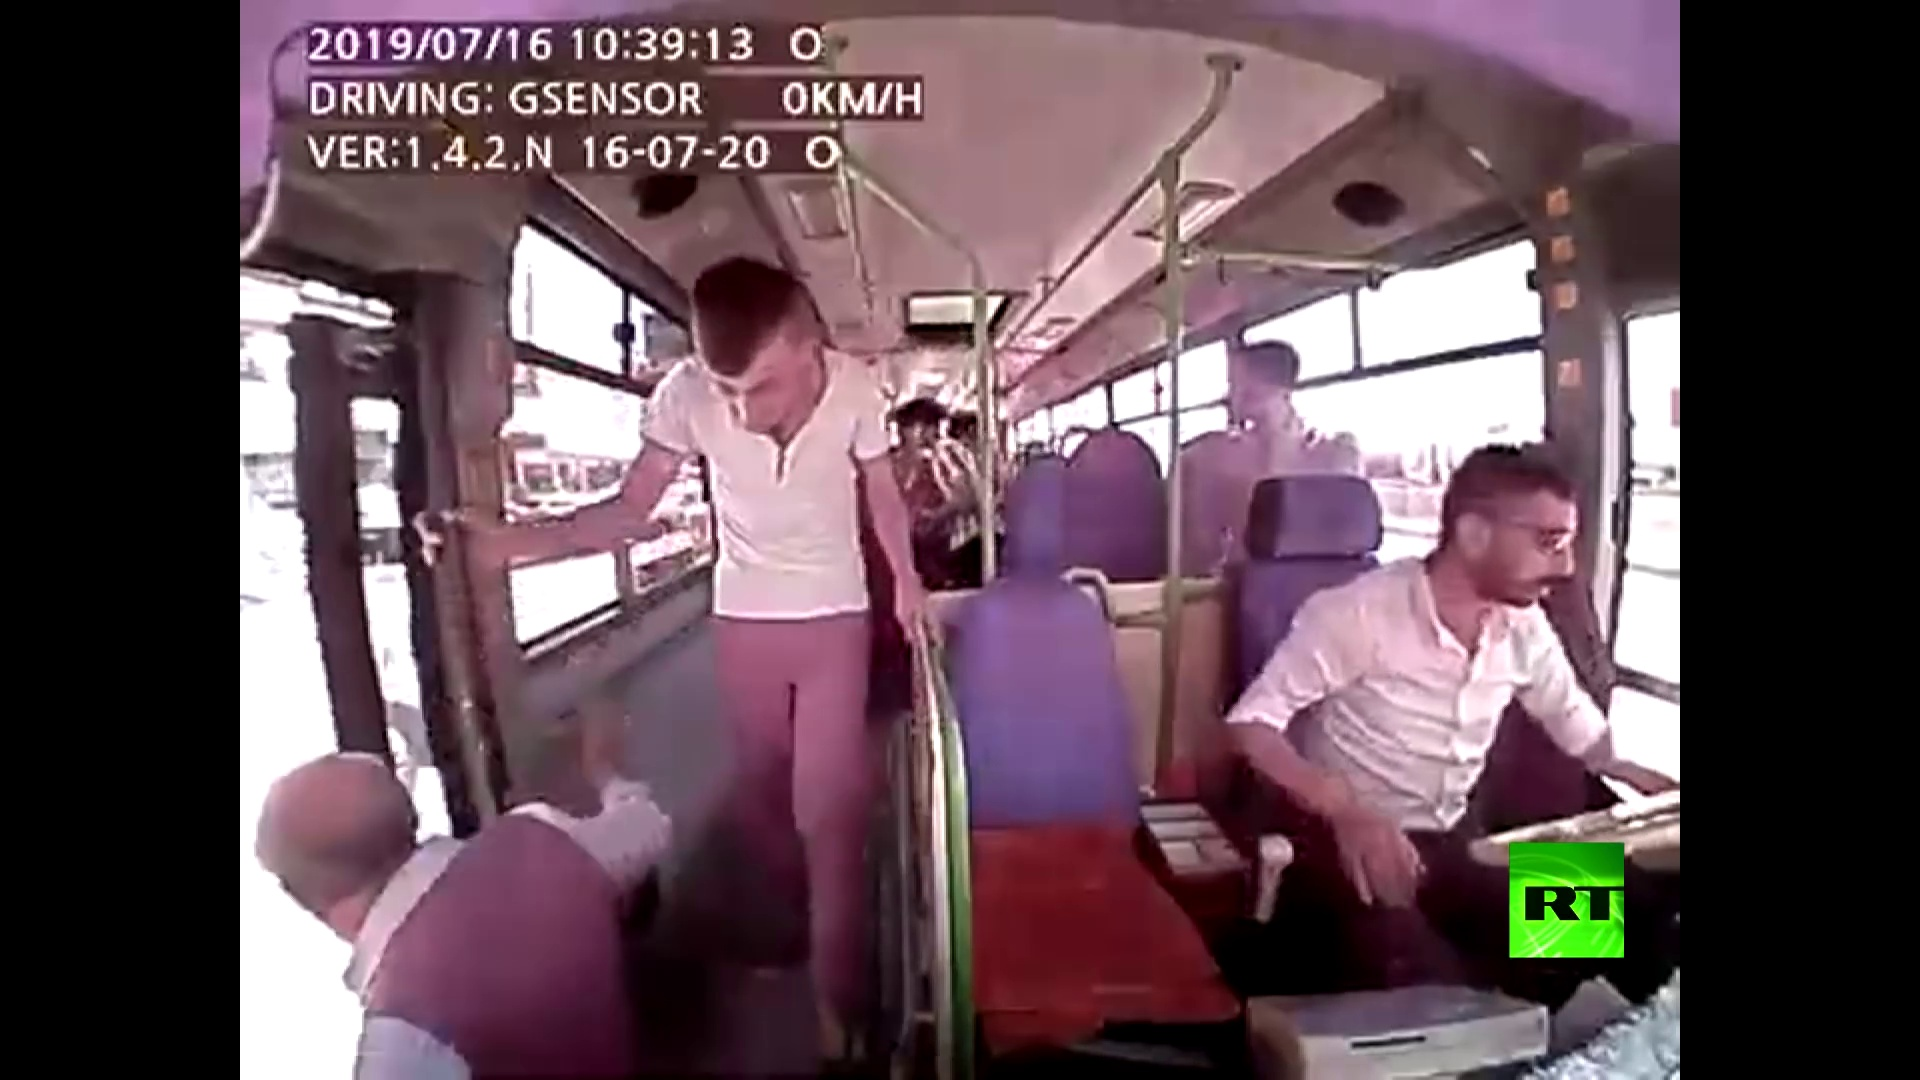face: (698, 351, 808, 436), (1496, 499, 1577, 612)
